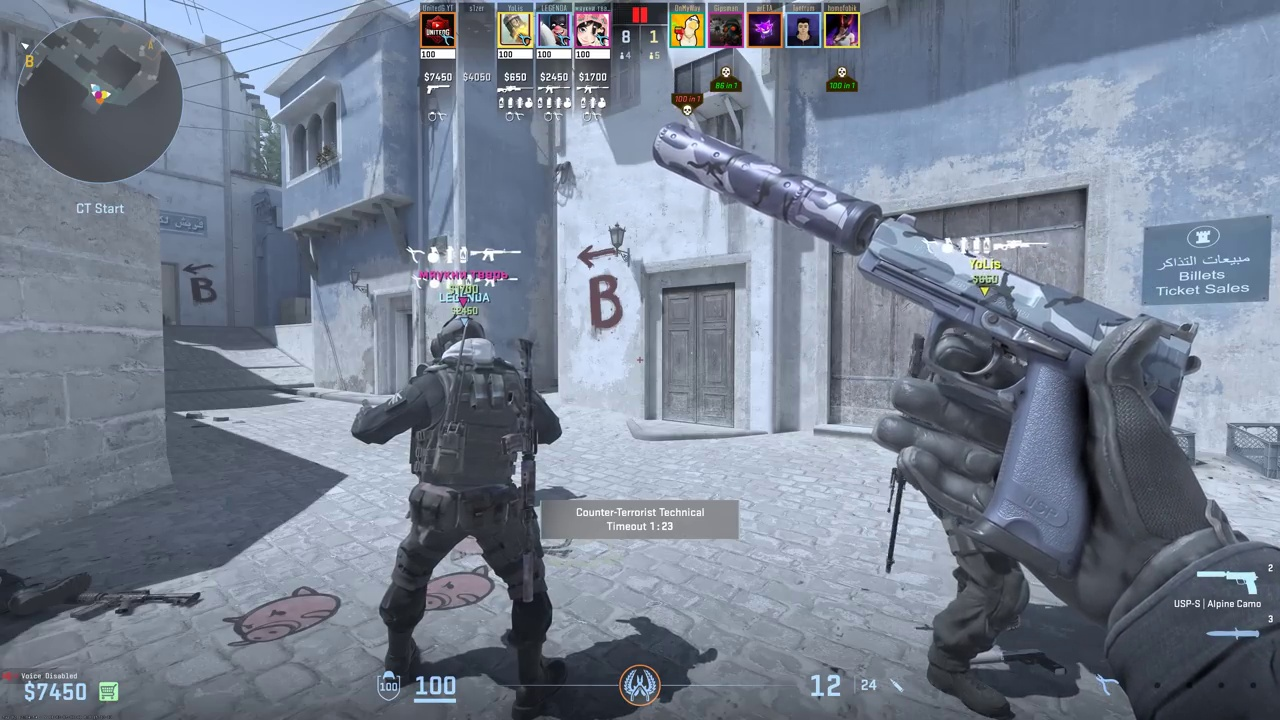CT: (894, 300, 1101, 706), (375, 318, 554, 682)
